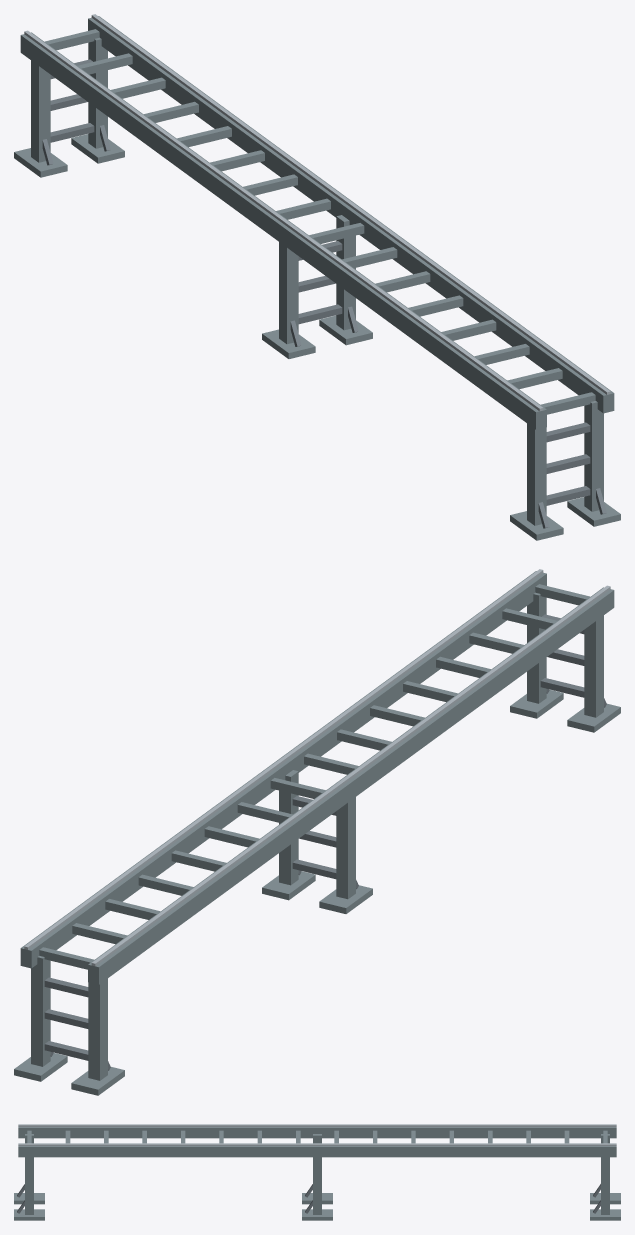
The model's file is identification_bridge.dae.
3 renders of one model, top to bottom at view 1: azimuth 30°, elevation 25°; view 2: azimuth 150°, elevation 25°; view 3: azimuth 270°, elevation 25°, orthographic. The views are drawn at different scales.
Visible parts, largest first — view 1: identification_bridge; view 2: identification_bridge; view 3: identification_bridge.
Part boxes in pixels (bbox=[...]): identification_bridge: bbox=[14, 14, 620, 540]; identification_bridge: bbox=[14, 569, 620, 1095]; identification_bridge: bbox=[14, 1124, 620, 1220].
Size of the model in its own units: 1 by 10.75 by 1.45.
